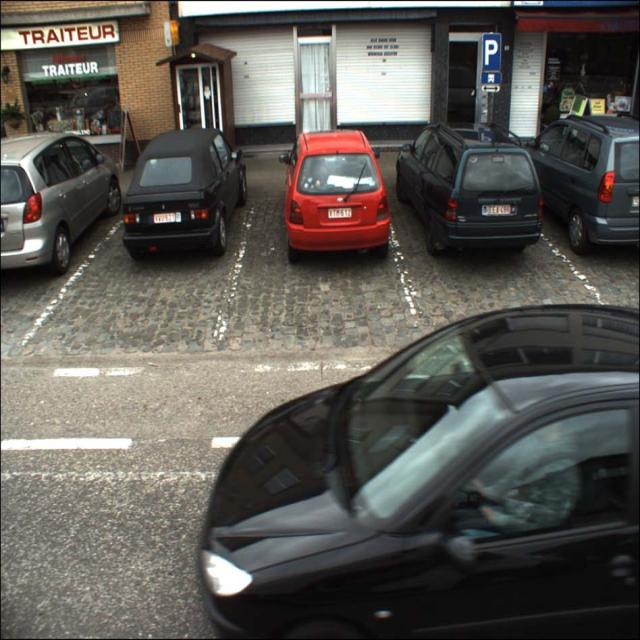park: (482, 33, 500, 71)
